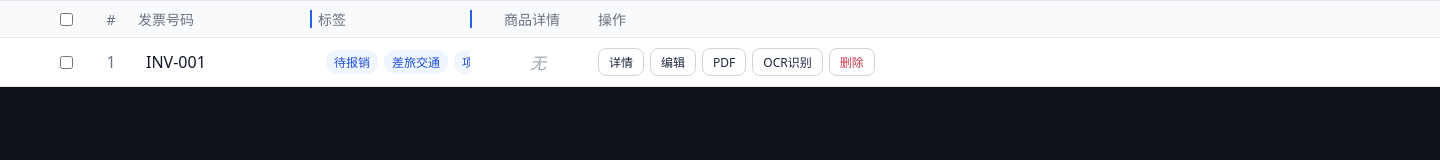
Scenario: WorkspaceTable tags column › renders the tags column and opens the full tag menu from the table cell
The width and height of the screenshot is (1440, 160).
Expected: the text "标签" is shown, [318,9,346,29]
Click the button with aria-label "标签" at (398, 62), box [318,46,478,78]
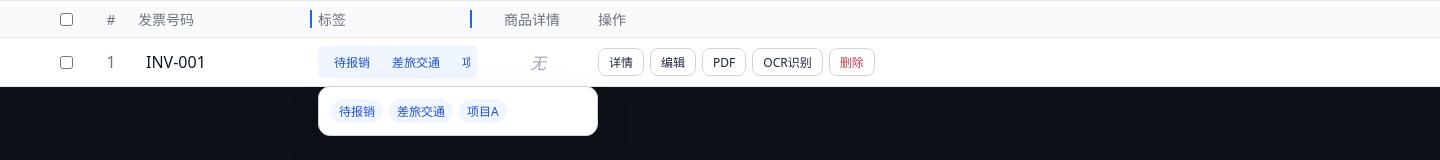
Expected: the 2nd text "待报销" is shown, [331,99,383,123]
Expected: the 2nd text "差旅交通" is shown, [389,99,453,123]
Expected: the text "项目A" is shown, [459,99,507,123]
